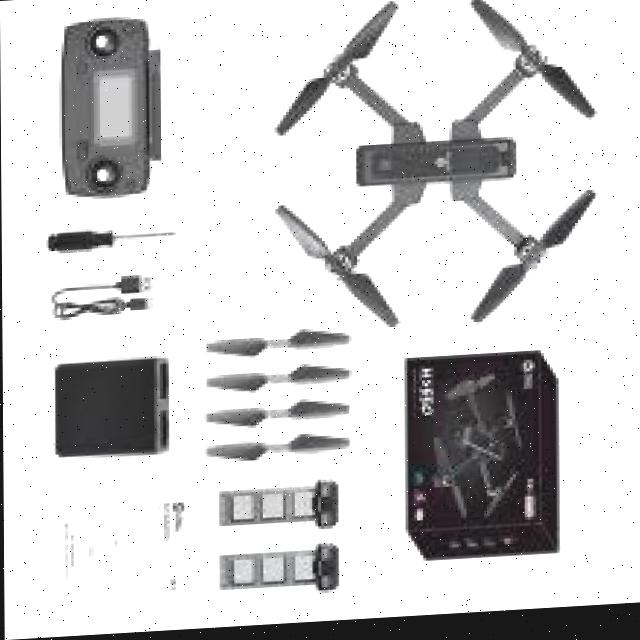drone: (259, 0, 603, 347)
